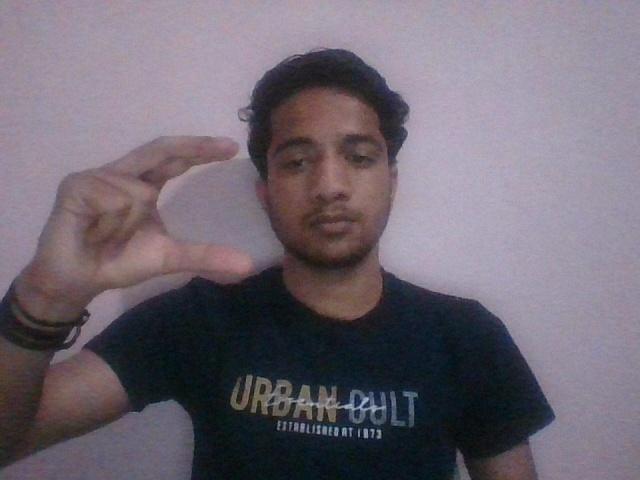no: (8, 134, 261, 300)
